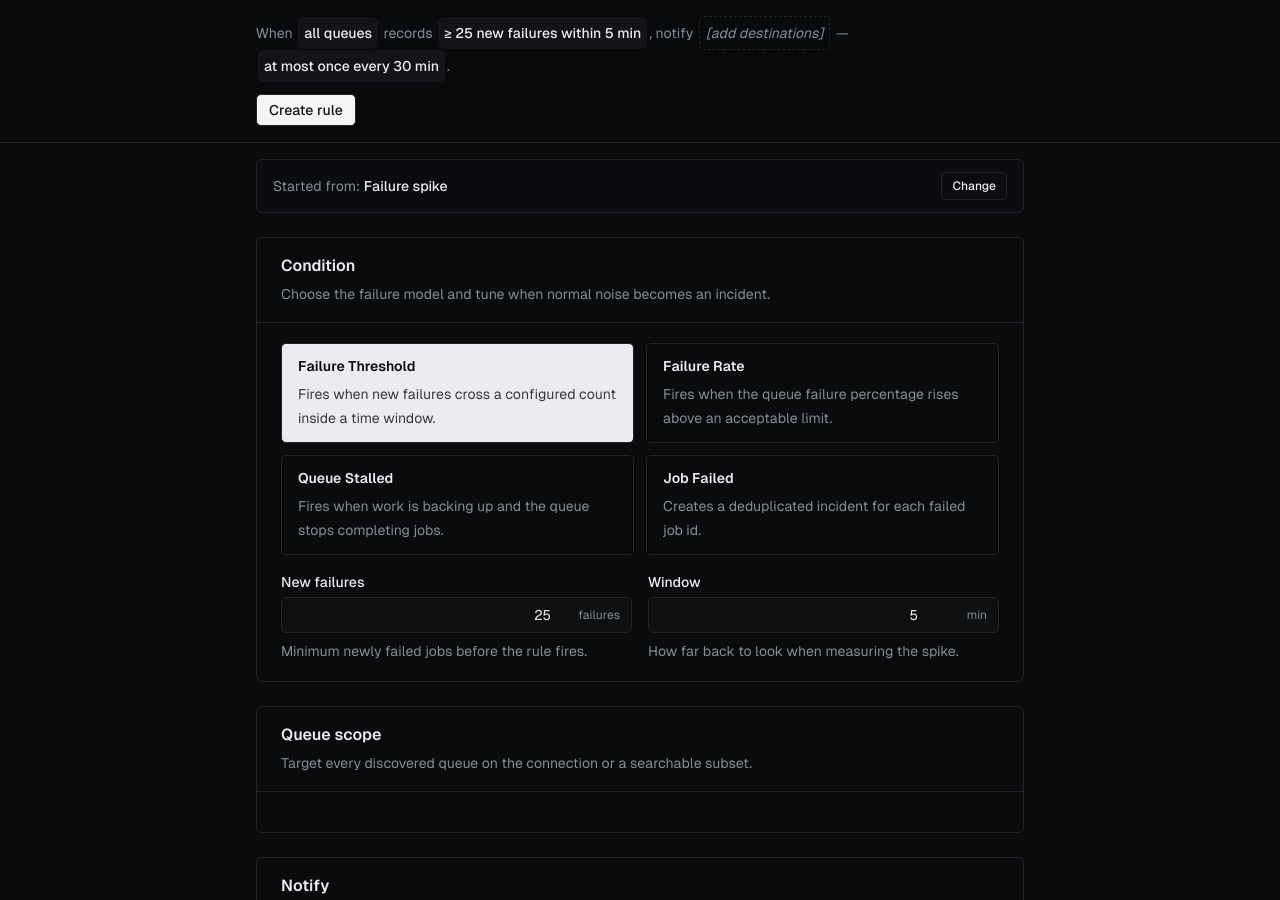
Test case: AlertRuleBuilder › updates the sentence live as condition fields change
Replace the text in the field labelled "New failures" with "50" at point(456, 615), box [281, 597, 632, 633]
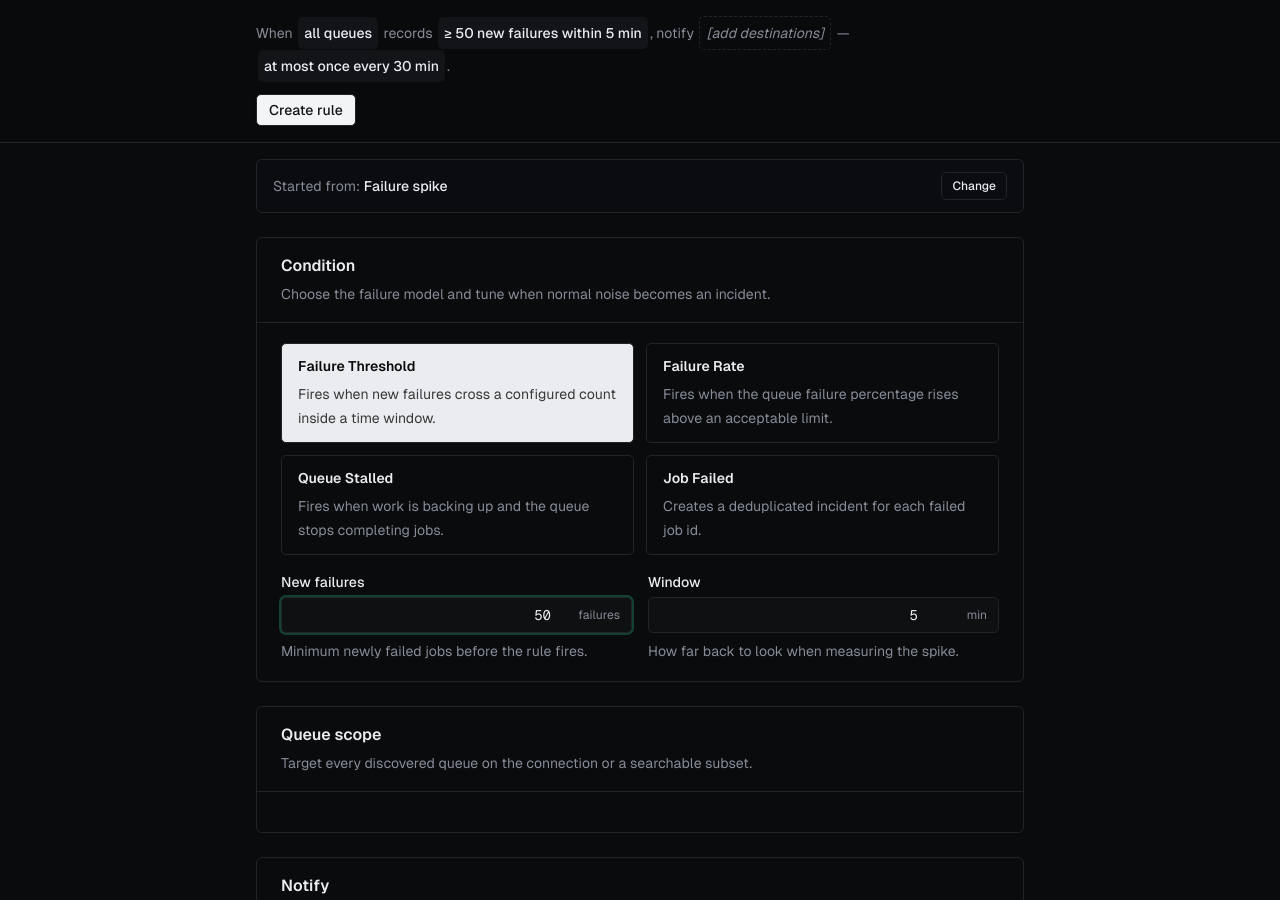
Expected: the button with test id "sentence-token-condition" reads "≥ 50 new failures within 5 min", [438, 17, 648, 49]
